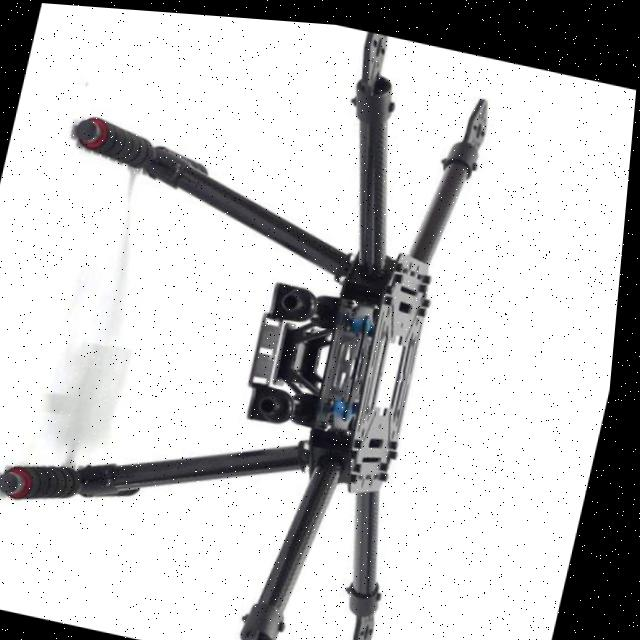drones: (0, 0, 541, 640)
